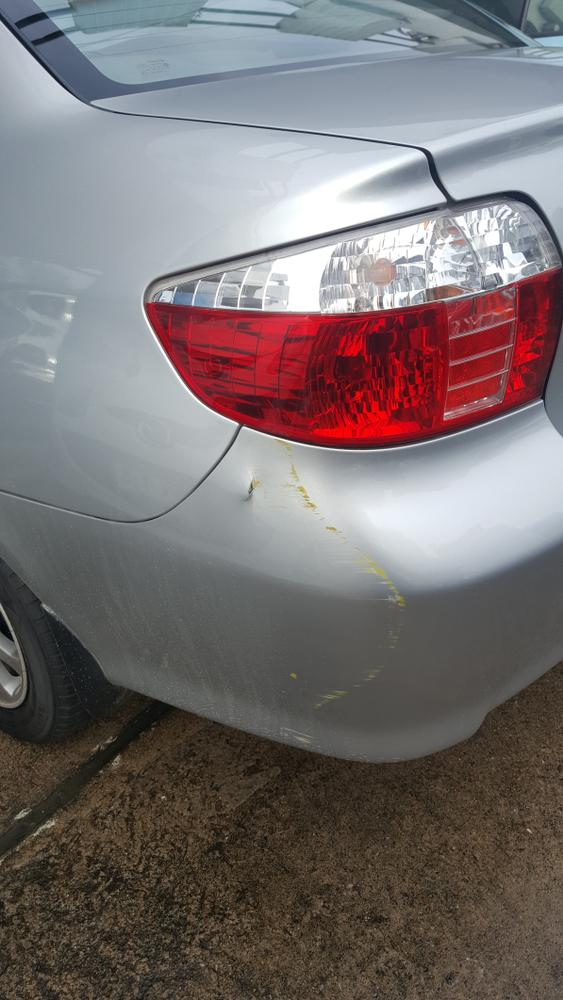scratch: (274, 441, 418, 739)
